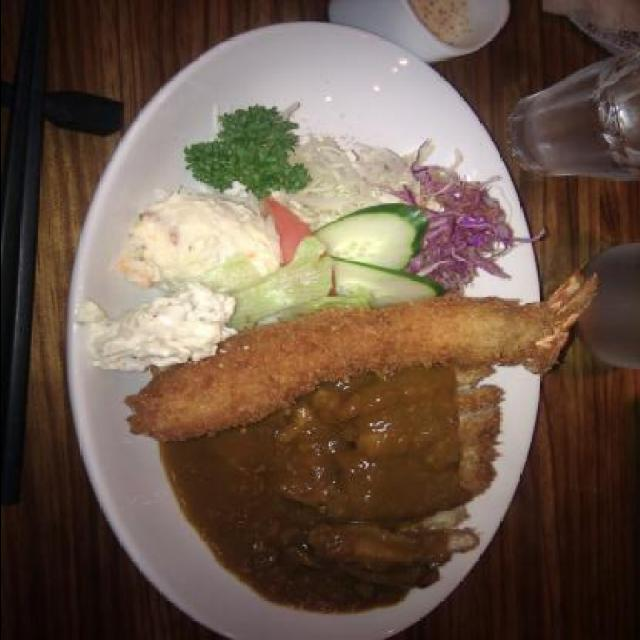Cucumber: (330, 255, 448, 308)
